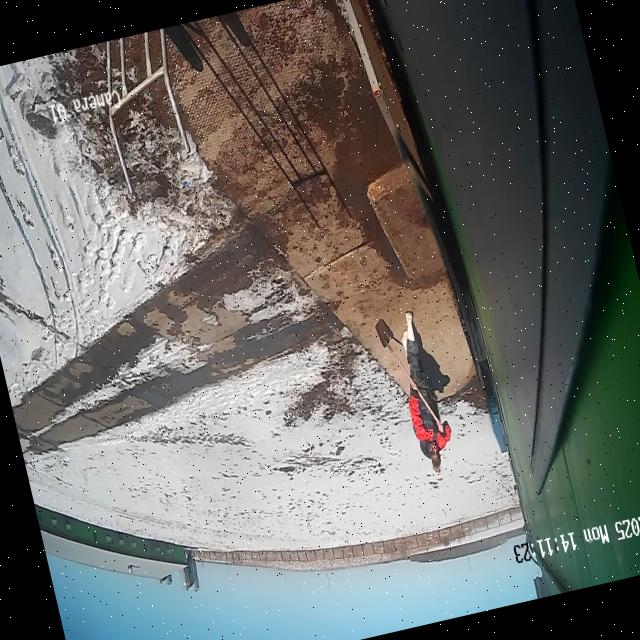Red uniform: (385, 305, 461, 476)
